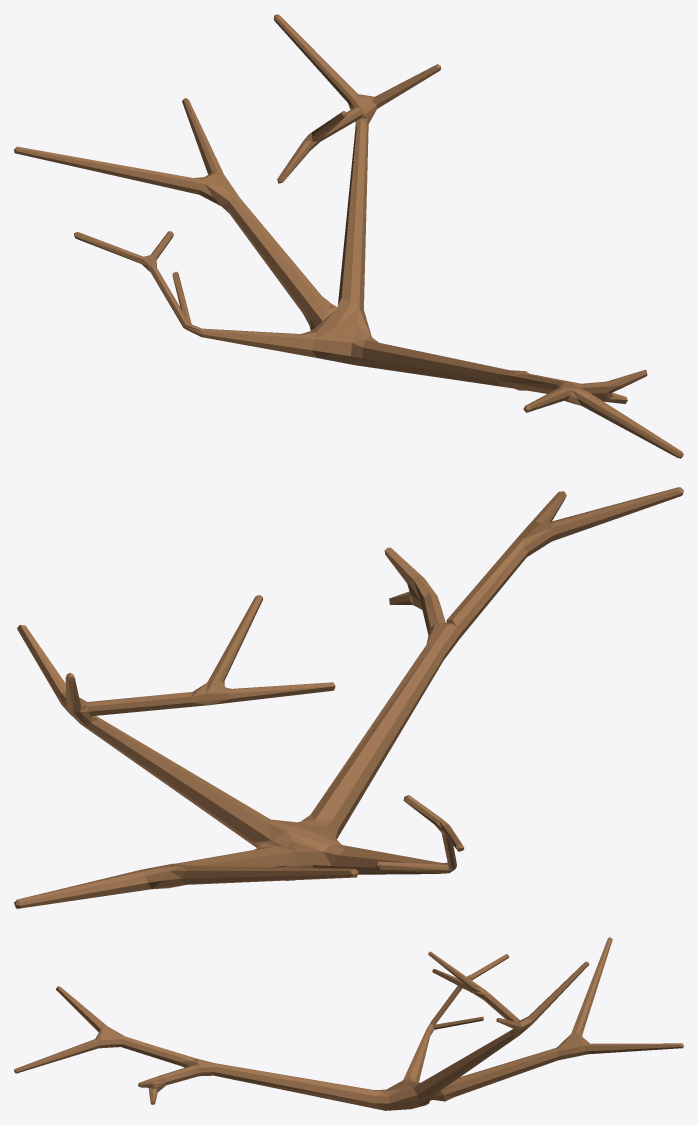
Rendered from Bush_8 Withered.fbx.
3 renders of one model, top to bottom at view 1: azimuth 30°, elevation 25°; view 2: azimuth 150°, elevation 25°; view 3: azimuth 270°, elevation 25°, orthographic. The views are drawn at different scales.
Visible parts, largest first — view 1: Bush8Withered_mesh; view 2: Bush8Withered_mesh; view 3: Bush8Withered_mesh.
Part boxes in pixels (box(x1,y1,x2,y2)): Bush8Withered_mesh: box(14, 14, 683, 458); Bush8Withered_mesh: box(14, 487, 683, 908); Bush8Withered_mesh: box(14, 937, 683, 1110).
Bounding box in the file's own units: 102 × 62.46 × 228.
